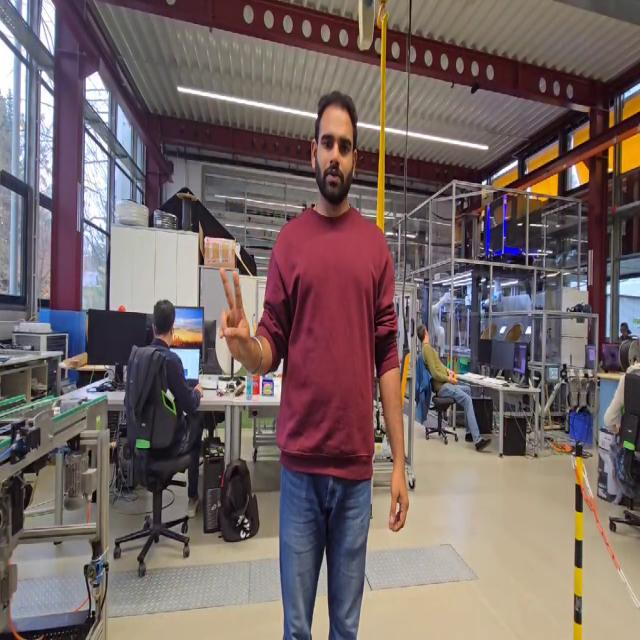v_sign: (216, 263, 260, 374)
